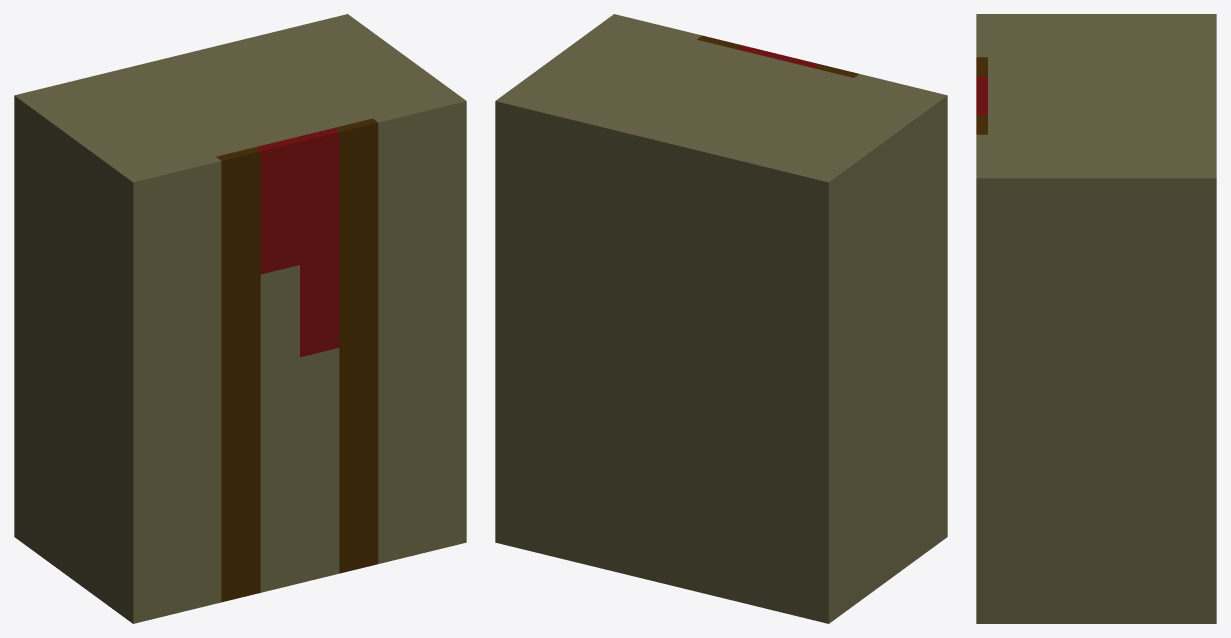
The model's file is seller-1.obj.
3 renders of one model, left to right at view 1: azimuth 30°, elevation 25°; view 2: azimuth 150°, elevation 25°; view 3: azimuth 270°, elevation 25°, orthographic.
Size of the model in its own units: 3.4 by 4.3 by 2.1.
Materials: 1 (1 with a texture image).
